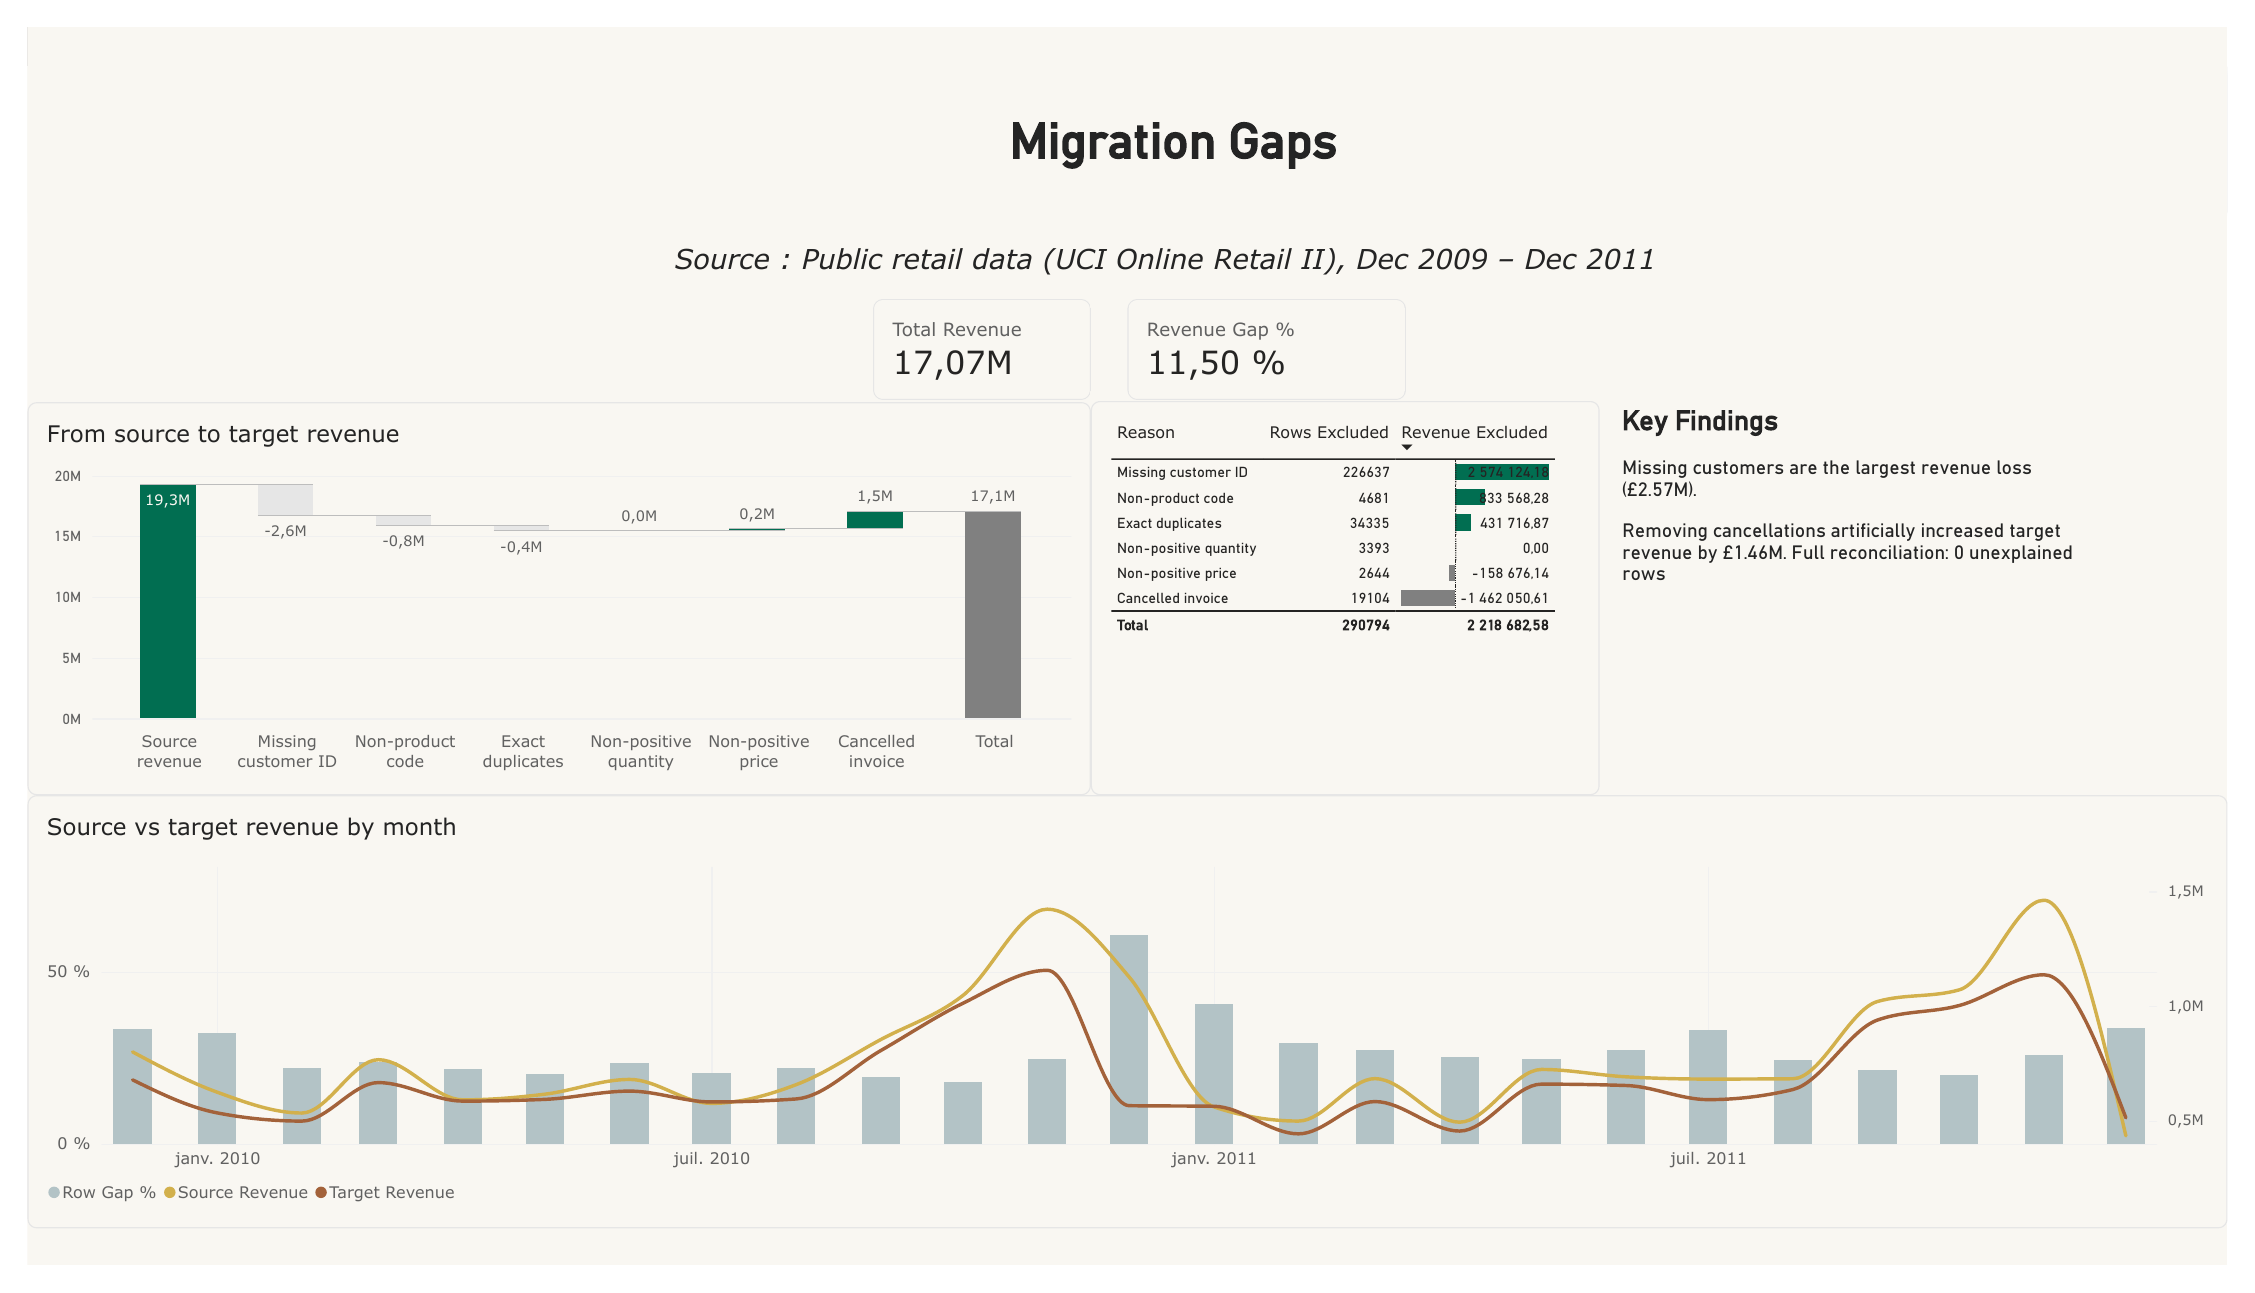

The page's visual inventory and layout, read from the dashboard file:
{"tool":"powerbi","page":{"name":"Migration Gaps","canvas":[1920,1080],"ordinal":1},"visuals":[{"type":"waterfallChart","title":"From source to target revenue","fields":{"Category":["WATERFALL.LABEL"],"Y":["Sum(WATERFALL.AMOUNT)"]},"box":[0,326.6,928.2,343.2],"z":0},{"type":"lineClusteredColumnComboChart","title":"Source vs target revenue by month","fields":{"Category":["GAP_BY_MONTH.MONTH"],"Y":["GAP_BY_MONTH.Row Gap %"],"Y2":["Sum(GAP_BY_MONTH.SRC_REVENUE)","Sum(GAP_BY_MONTH.TGT_REVENUE)"]},"box":[0,669.8,1920.4,378.3],"z":1000},{"type":"cardVisual","fields":{"Data":["FACT_SALES.Total Revenue"]},"box":[738.3,236.7,190,88.3],"z":2000},{"type":"cardVisual","fields":{"Data":["GAP_BY_MONTH.Revenue Gap %"]},"box":[960,236.7,243.3,88.3],"z":3000},{"type":"textbox","box":[1391.7,330,418.3,340],"z":4000},{"type":"tableEx","fields":{"Values":["EXCLUSIONS.REASON","Sum(EXCLUSIONS.ROWS_EXCLUDED)","Sum(EXCLUSIONS.REVENUE_EXCLUDED)"]},"box":[928,326,444,344],"z":5000},{"type":"textbox","box":[463.3,186.7,1060,53.3],"z":6000},{"type":"textbox","box":[526,74,950,82],"z":7000}]}

Visuals, with their boxes in screenshot pixels (x1, y1, x2, y2), scaled from the page's 1920x1080 canvas onto the 2255x1293 screenshot:
"From source to target revenue" waterfallChart: 0 391 1090 802
"Source vs target revenue by month" lineClusteredColumnComboChart: 0 802 2254 1255
cardVisual - FACT_SALES.Total Revenue: 867 283 1090 389
cardVisual - GAP_BY_MONTH.Revenue Gap %: 1128 283 1413 389
textbox: 1635 395 2126 802
tableEx - EXCLUSIONS.REASON x Sum(EXCLUSIONS.ROWS_EXCLUDED): 1090 390 1611 802
textbox: 544 224 1789 287
textbox: 618 89 1734 187
